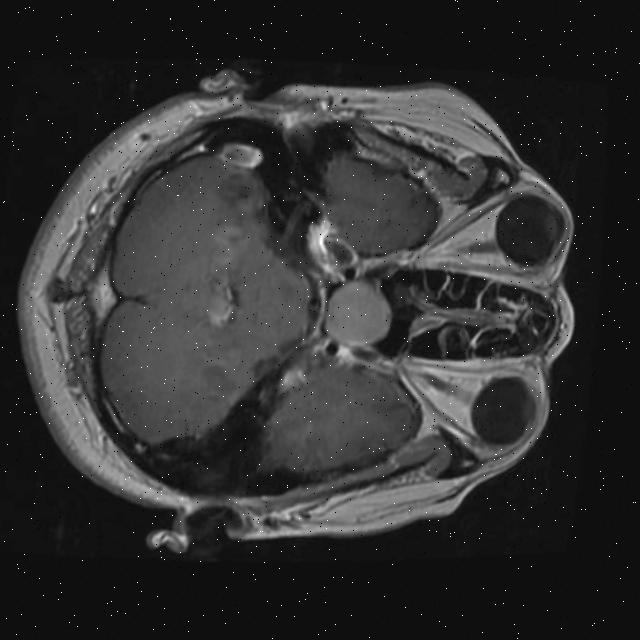Pituitary: (322, 278, 395, 345)
